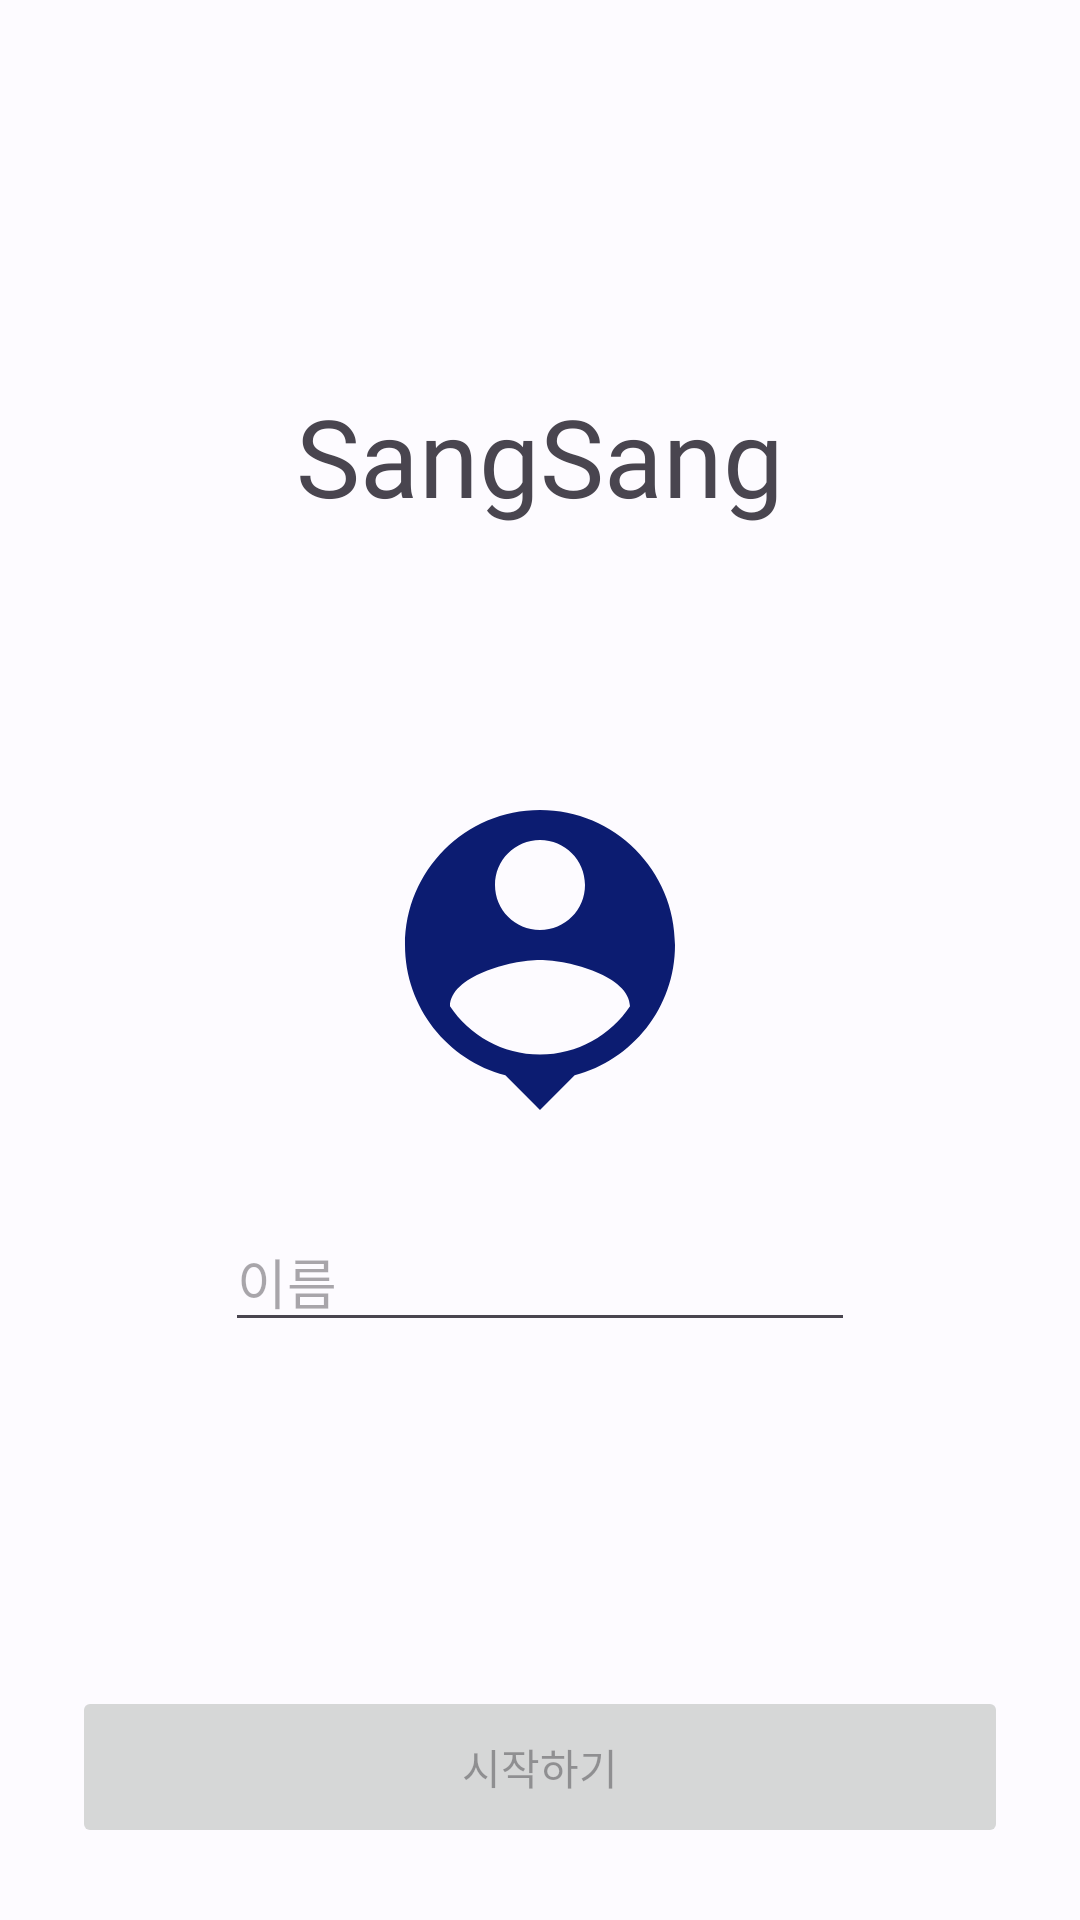

Named icons in this screenshot (1080w x 1920h) and their bounding boxes, (x1=x1, y1=y1, x2=x2, y2=y2):
person pin: (x1=405, y1=810, x2=675, y2=1110)
